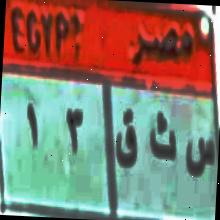1: (14, 95, 48, 171)
3: (58, 97, 87, 168)
qaaf: (109, 105, 143, 182)
seen: (181, 124, 216, 191)
thaa: (144, 110, 180, 170)
